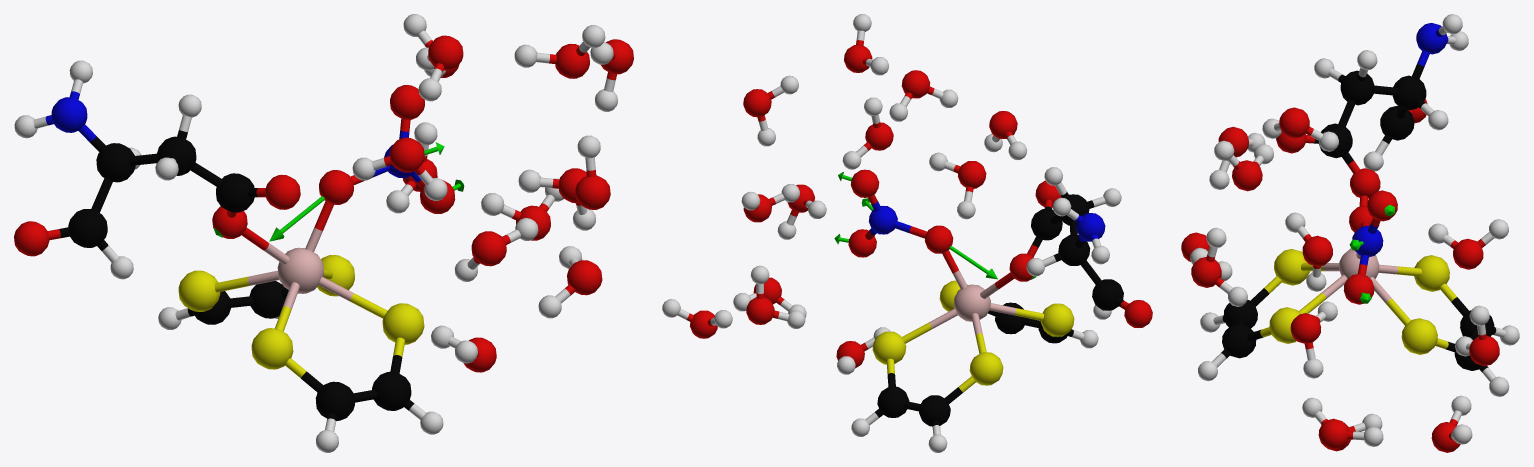
The model's file is nargs_12h2opcm_ts.glb.
3 renders of one model, left to right at view 1: azimuth 30°, elevation 25°; view 2: azimuth 150°, elevation 25°; view 3: azimuth 270°, elevation 25°, orthographic. The views are drawn at different scales.
Parts seen in each view (by area): view 1: frame_18; view 2: frame_18; view 3: frame_18.
Boxes of the visible parts, left/top/right/bottom form: frame_18: left=14, top=14, right=633, bottom=452; frame_18: left=662, top=14, right=1152, bottom=452; frame_18: left=1181, top=14, right=1519, bottom=452.
Size of the model in its own units: 1.6 by 1 by 0.9343.
